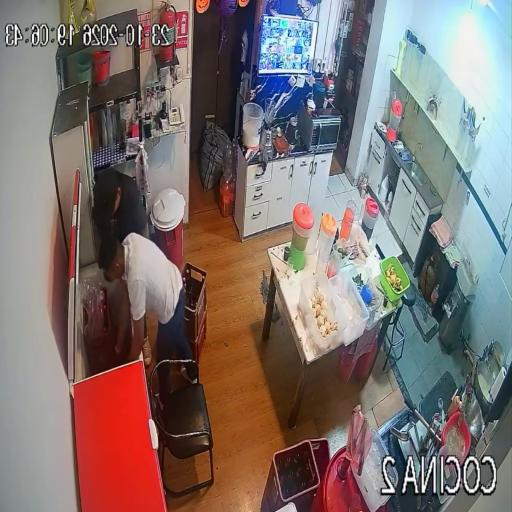Balde: (242, 102, 264, 149)
Envase Llajua: (448, 394, 460, 418)
Jarra1: (362, 197, 379, 238)
Jarra2: (318, 213, 337, 256)
Jarra4: (291, 203, 314, 270)
Licuadora: (285, 114, 300, 145)
Licuadora2: (262, 99, 275, 148)
Microondas: (298, 105, 342, 151)
Persona1: (93, 169, 147, 243)
Persona3: (99, 233, 195, 363)
Taper: (379, 256, 410, 301)
Taper2: (350, 269, 381, 332)
Taper3: (329, 269, 369, 346)
Taper4: (299, 274, 346, 358)
Taper5: (353, 430, 398, 512)
